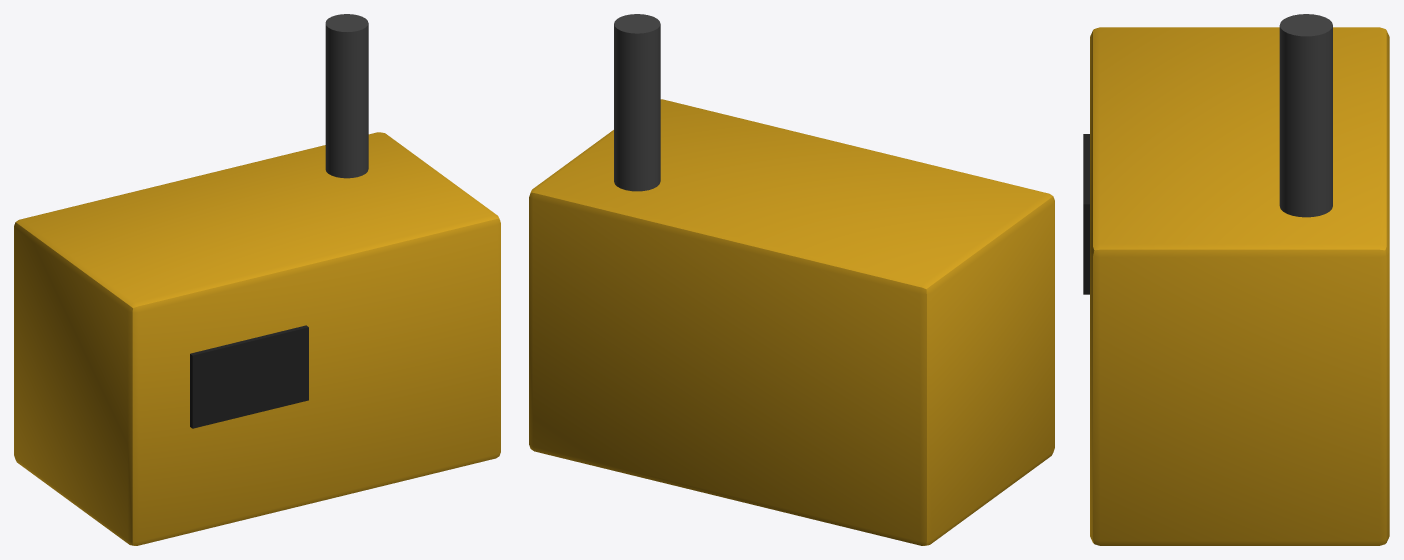
File: generator.glb
The picture shows the model from 3 angles, left to right: view 1: azimuth 30°, elevation 25°; view 2: azimuth 150°, elevation 25°; view 3: azimuth 270°, elevation 25°; orthographic projection. The views are drawn at different scales.
Parts seen in each view (by area): view 1: gen; view 2: gen; view 3: gen.
Boxes of the visible parts, x1,y1,x2,y2 form: gen: (14, 14, 500, 545); gen: (529, 14, 1054, 545); gen: (1083, 14, 1389, 545).
Size of the model in its own units: 1.6 by 1.6 by 0.92.
